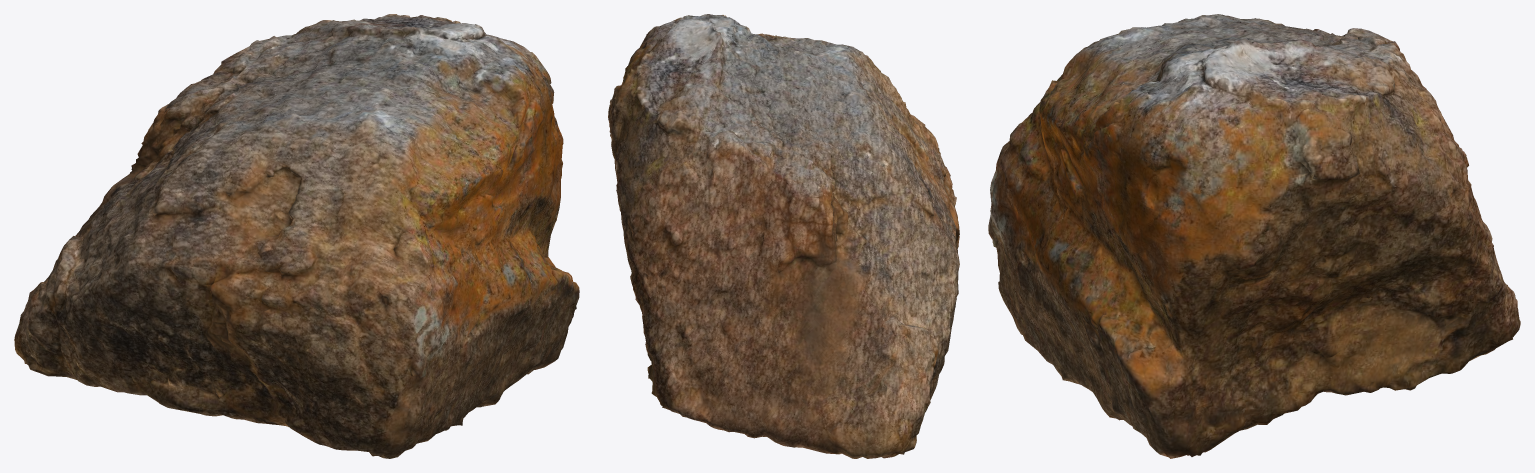
File: boulder-4.glb
3 renders of one model, left to right at view 1: azimuth 30°, elevation 25°; view 2: azimuth 150°, elevation 25°; view 3: azimuth 270°, elevation 25°, orthographic. The views are drawn at different scales.
Parts seen in each view (by area): view 1: boulder_04; view 2: boulder_04; view 3: boulder_04.
Part boxes in pixels (bbox=[...]): boulder_04: bbox=[14, 14, 579, 458]; boulder_04: bbox=[608, 14, 959, 458]; boulder_04: bbox=[988, 14, 1520, 458].
Size of the model in its own units: 2.52 by 1.9 by 2.5.
1 material, 1 textured.
